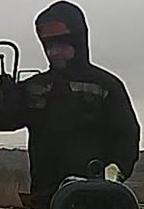helmet: (36, 16, 72, 39)
vest: (16, 61, 140, 200)
